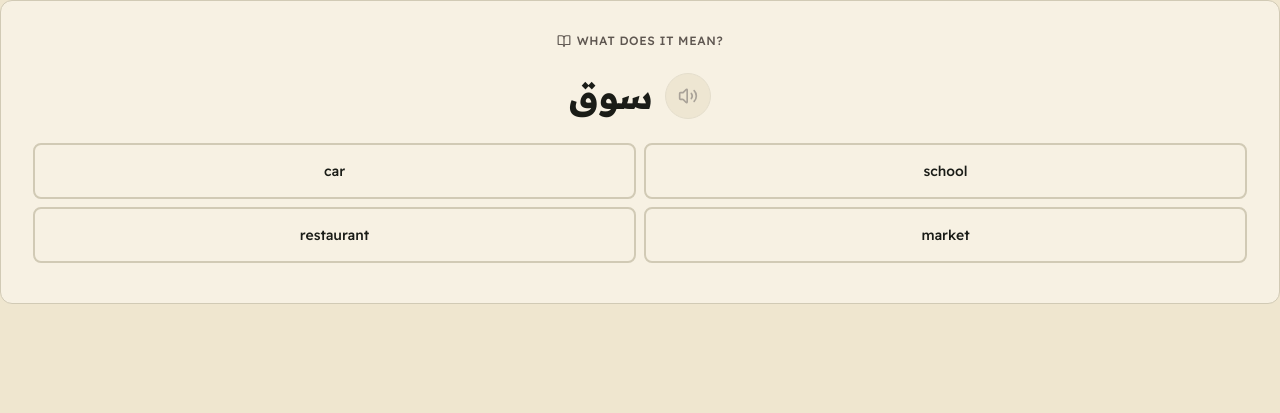
Test case: the shown question › reports a right answer as right, with no help used
Click the radio button labelled "market" at x=946, y=235, box [644,207,1247,263]
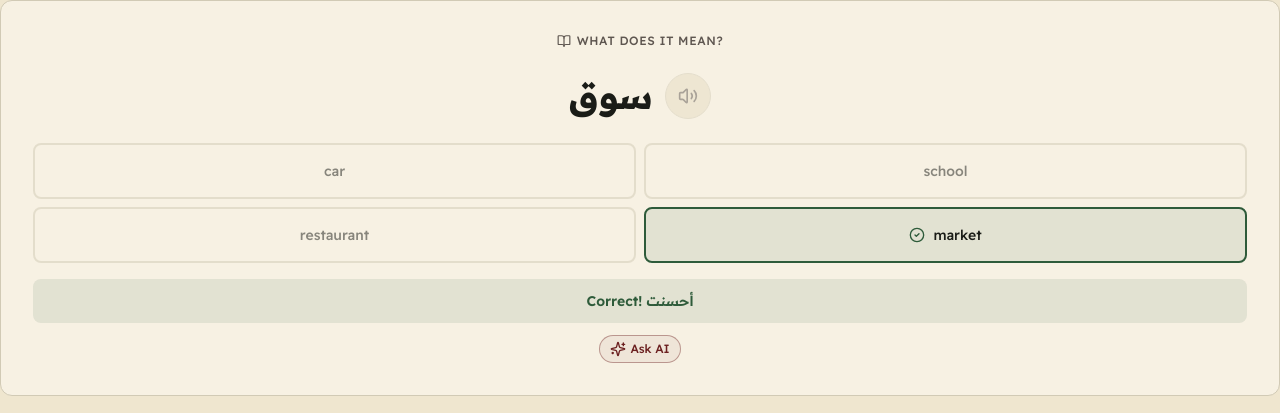
Expected: the message shows "Correct", [586,292,694,310]
